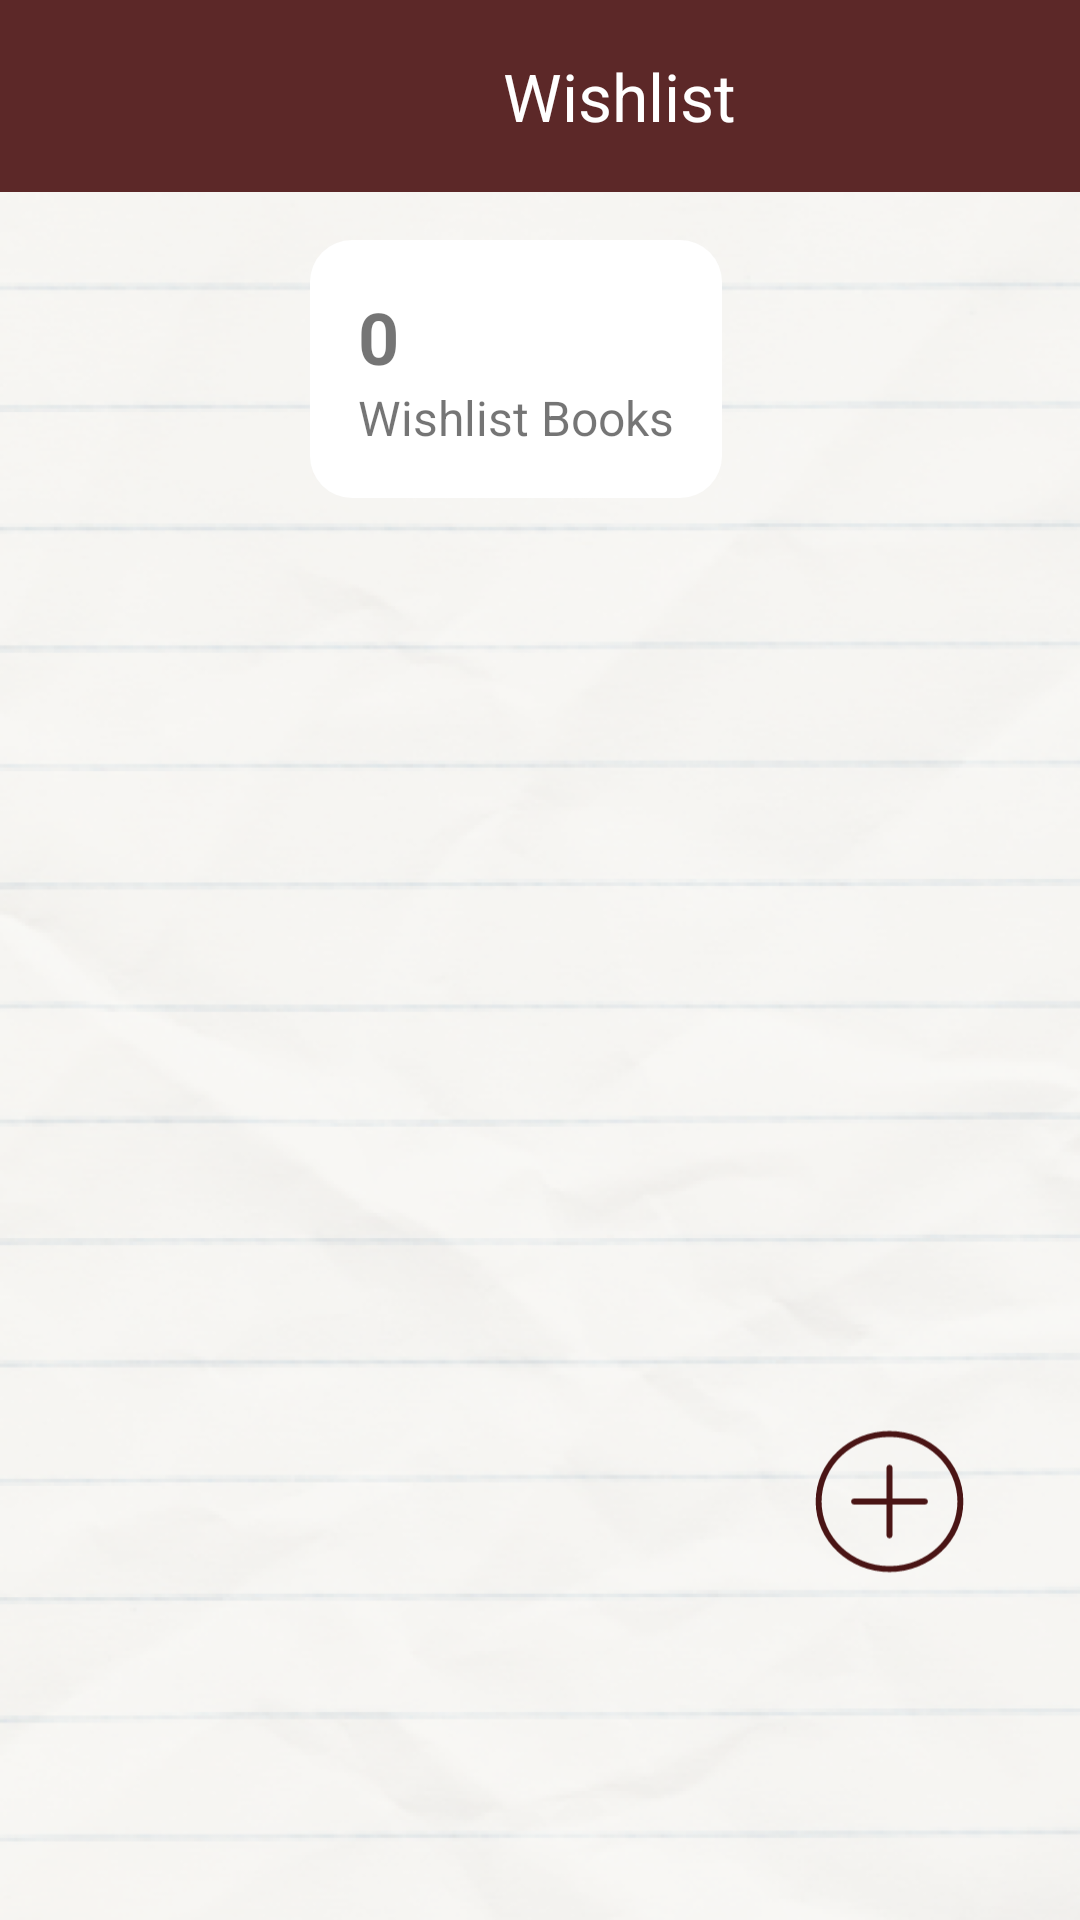

Where to tap for icons on this 1080 × 1920 app screen, as [x,y]:
Add to wishlist: [889,1501]
